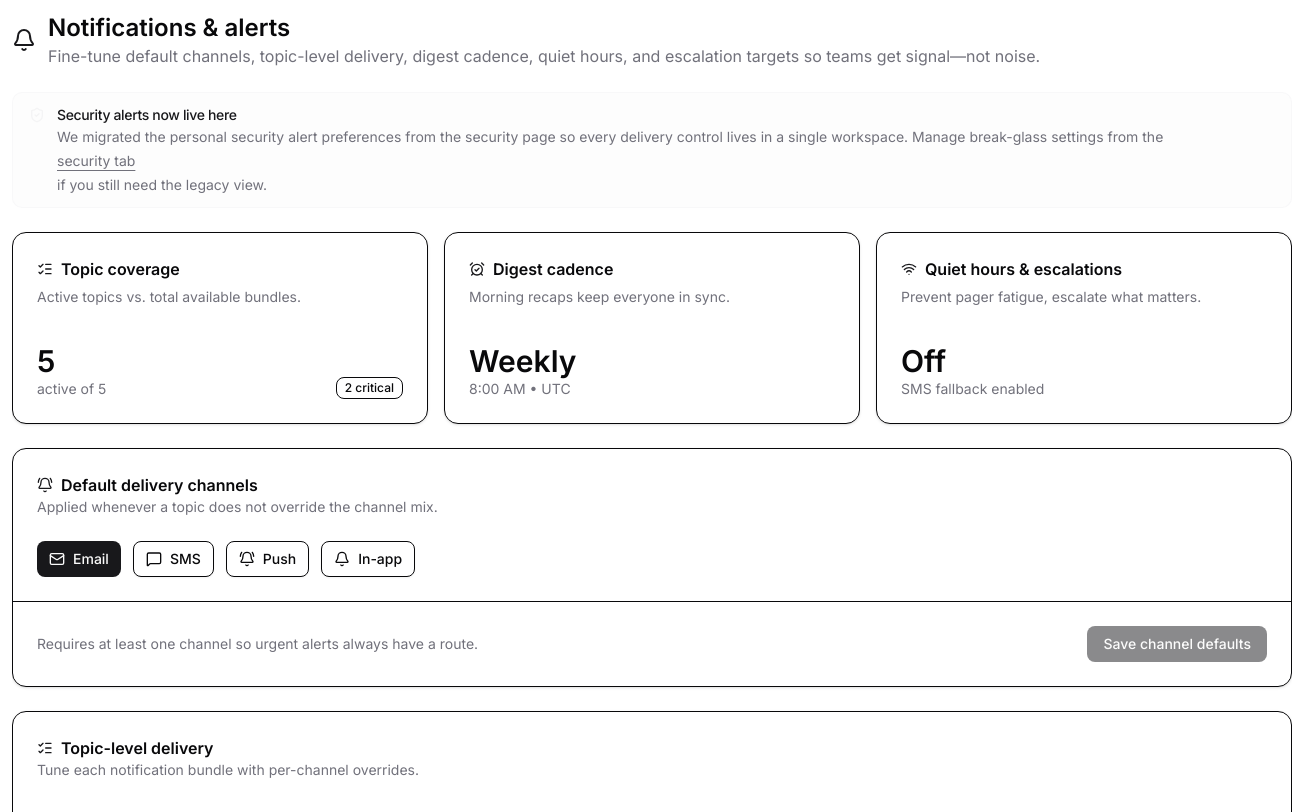
Scenario: NotificationsSettingsPage › saves updated default channels
This screenshot has width=1292, height=812.
Click the button with aria-label "Toggle default channel Push" at (268, 559), box [226,541,309,577]
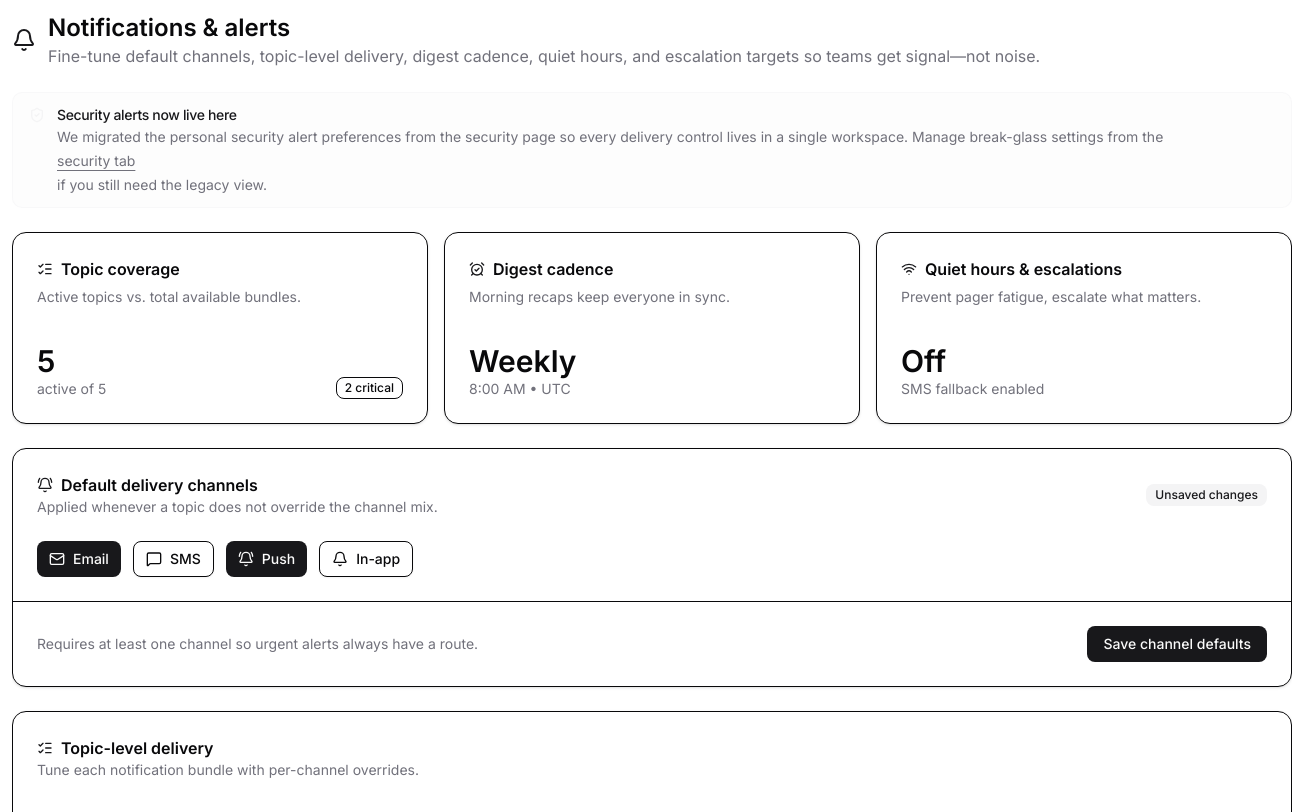
Click the button "Save channel defaults" at (1177, 644), box [1088,626,1267,662]
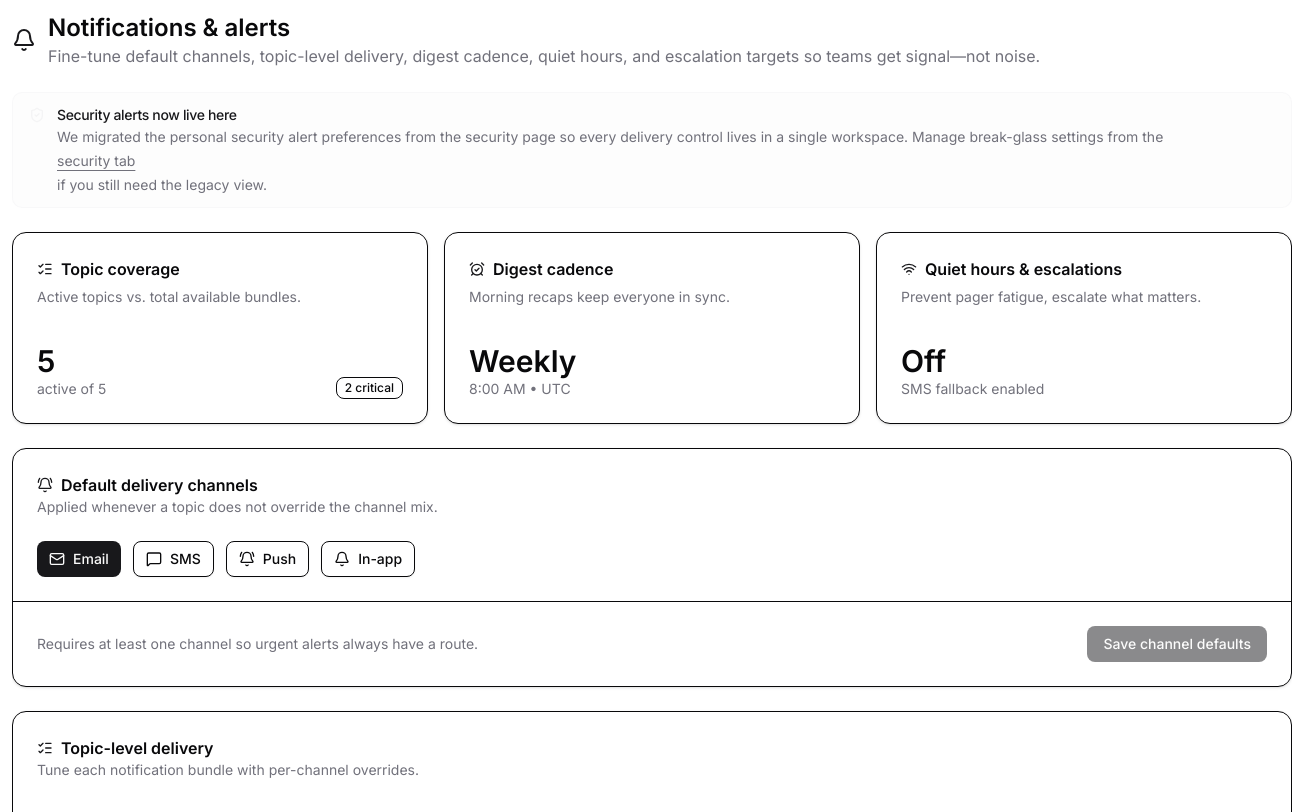
expect the button "Save channel defaults" is disabled: met, box [1088,626,1267,662]
